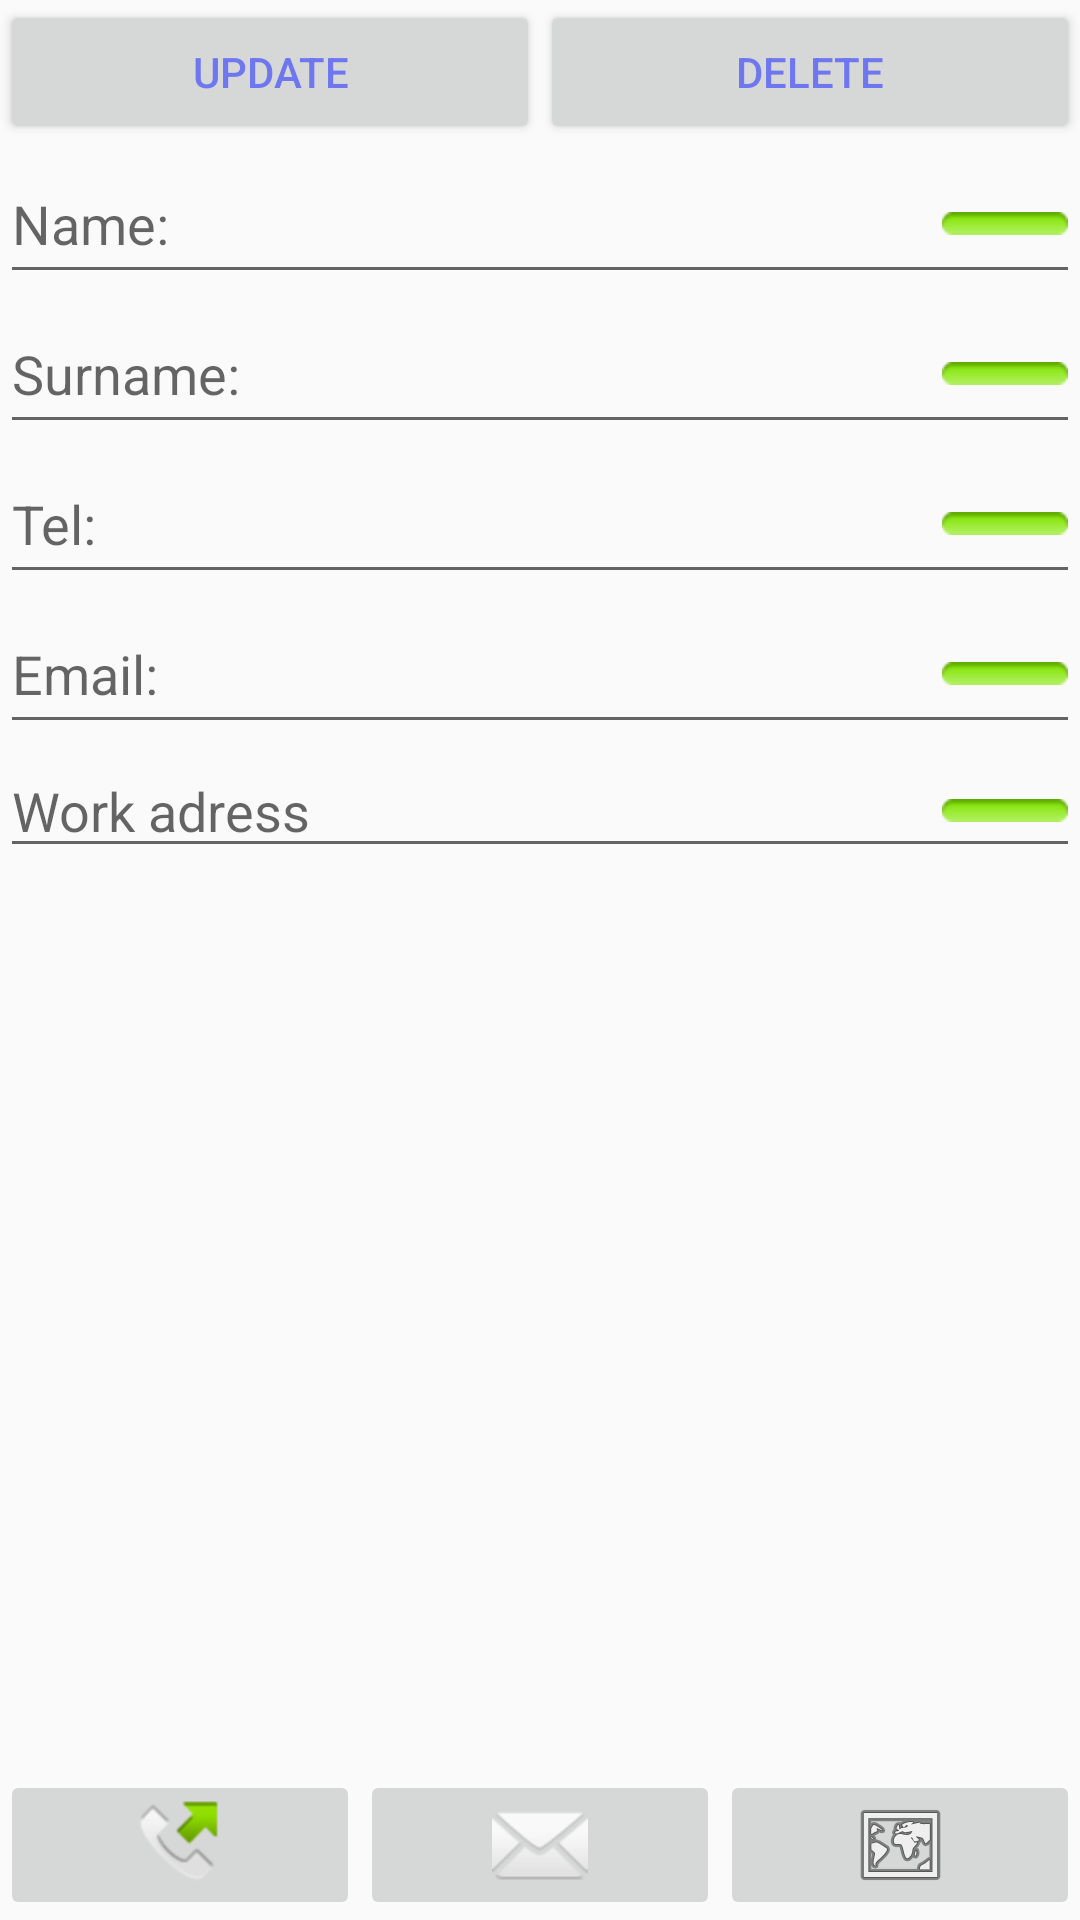

Icon bounding boxes for this 1080px x 1920px phone screenshot, format {"left": x1, "top": y1, "right": x2, "bottom": y2}:
email: {"left": 372, "top": 1788, "right": 708, "bottom": 1902}
mapmode: {"left": 732, "top": 1788, "right": 1068, "bottom": 1902}
sym call outgoing: {"left": 12, "top": 1788, "right": 348, "bottom": 1902}
